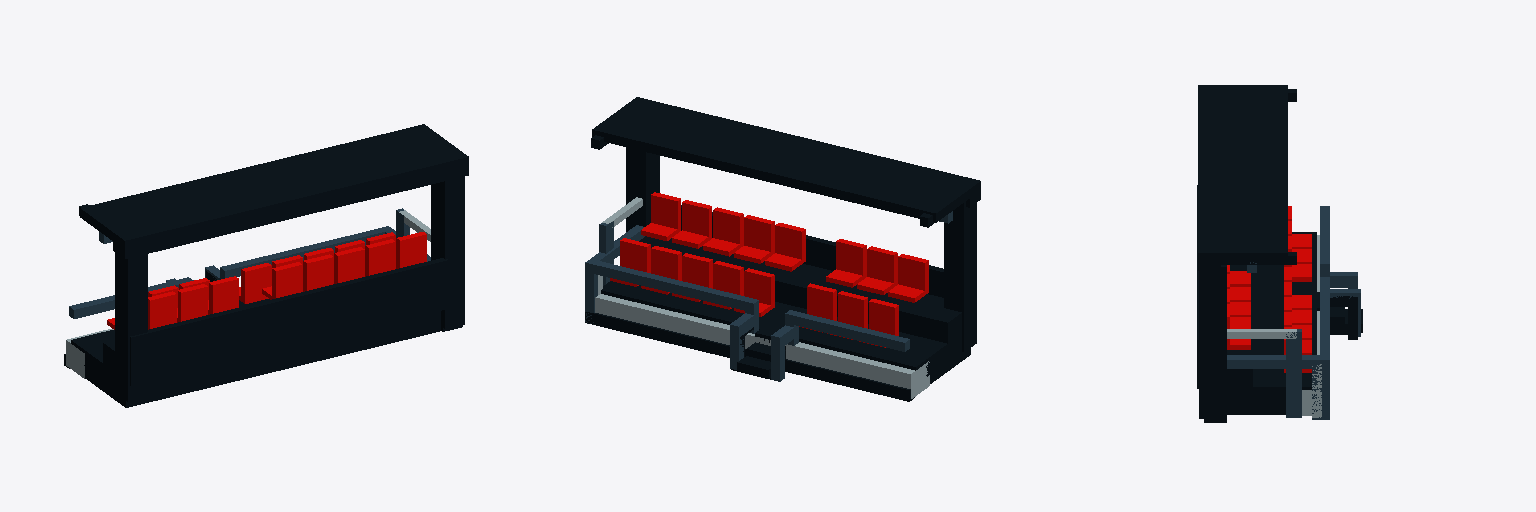
3 renders of one model, left to right at view 1: azimuth 30°, elevation 25°; view 2: azimuth 150°, elevation 25°; view 3: azimuth 270°, elevation 25°, orthographic.
Visible parts, largest first — view 1: group[number redacted], group[number redacted], group[number redacted], group[number redacted], group[number redacted], group[number redacted], group[number redacted], group[number redacted], group[number redacted], group[number redacted], group[number redacted]; view 2: group[number redacted], group[number redacted], group[number redacted], group[number redacted], group[number redacted], group[number redacted], group[number redacted], group[number redacted], group[number redacted], group[number redacted], group[number redacted], group[number redacted] (+4 smaller); view 3: group[number redacted], group[number redacted], group[number redacted], group[number redacted], group[number redacted], group[number redacted], group[number redacted], group[number redacted], group[number redacted], group[number redacted], group[number redacted], group[number redacted] (+4 smaller).
Part boxes in pixels (left/top/right/bottom): group[number redacted]: left=80, top=124, right=468, bottom=258; group[number redacted]: left=103, top=258, right=448, bottom=385; group[number redacted]: left=71, top=299, right=440, bottom=407; group[number redacted]: left=262, top=232, right=426, bottom=299; group[number redacted]: left=115, top=253, right=147, bottom=401; group[number redacted]: left=434, top=177, right=464, bottom=328; group[number redacted]: left=148, top=276, right=238, bottom=329; group[number redacted]: left=239, top=232, right=395, bottom=303; group[number redacted]: left=220, top=226, right=393, bottom=279; group[number redacted]: left=69, top=279, right=183, bottom=318; group[number redacted]: left=66, top=329, right=113, bottom=378; group[number redacted]: left=592, top=97, right=980, bottom=222; group[number redacted]: left=641, top=192, right=805, bottom=271; group[number redacted]: left=639, top=205, right=961, bottom=345; group[number redacted]: left=601, top=281, right=970, bottom=383; group[number redacted]: left=595, top=294, right=929, bottom=398; group[number redacted]: left=610, top=238, right=774, bottom=316; group[number redacted]: left=826, top=239, right=928, bottom=302; group[number redacted]: left=944, top=202, right=976, bottom=351; group[number redacted]: left=585, top=312, right=914, bottom=401; group[number redacted]: left=799, top=283, right=898, bottom=347; group[number redacted]: left=585, top=259, right=758, bottom=333; group[number redacted]: left=626, top=147, right=656, bottom=231; group[number redacted]: left=1198, top=85, right=1287, bottom=270; group[number redacted]: left=1227, top=232, right=1316, bottom=414; group[number redacted]: left=1204, top=265, right=1226, bottom=422; group[number redacted]: left=1199, top=265, right=1221, bottom=418; group[number redacted]: left=1227, top=265, right=1250, bottom=349; group[number redacted]: left=1284, top=267, right=1311, bottom=372; group[number redacted]: left=1227, top=355, right=1321, bottom=368; group[number redacted]: left=1286, top=329, right=1301, bottom=417; group[number redacted]: left=1197, top=185, right=1252, bottom=388; group[number redacted]: left=1284, top=206, right=1311, bottom=281; group[number redacted]: left=1320, top=277, right=1329, bottom=368; group[number redacted]: left=1227, top=329, right=1296, bottom=338.
Bounding box in the file's own units: 1.55 × 0.75 × 0.65.